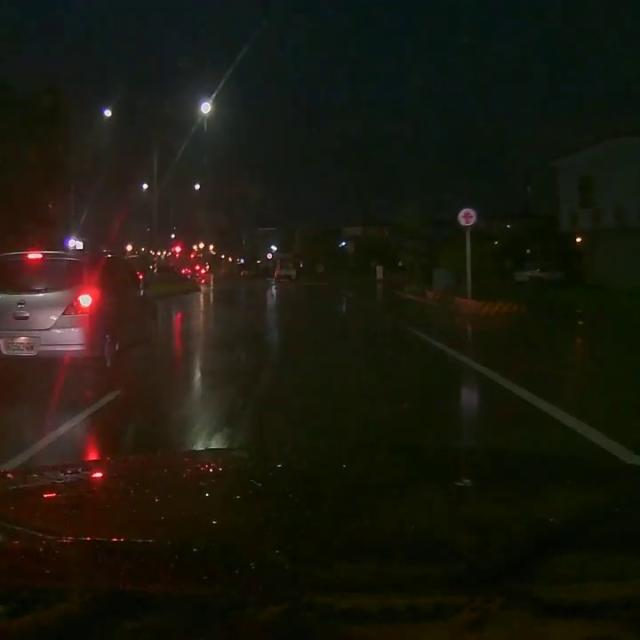Car: (0, 249, 160, 371), (507, 256, 568, 285), (270, 256, 301, 283)
